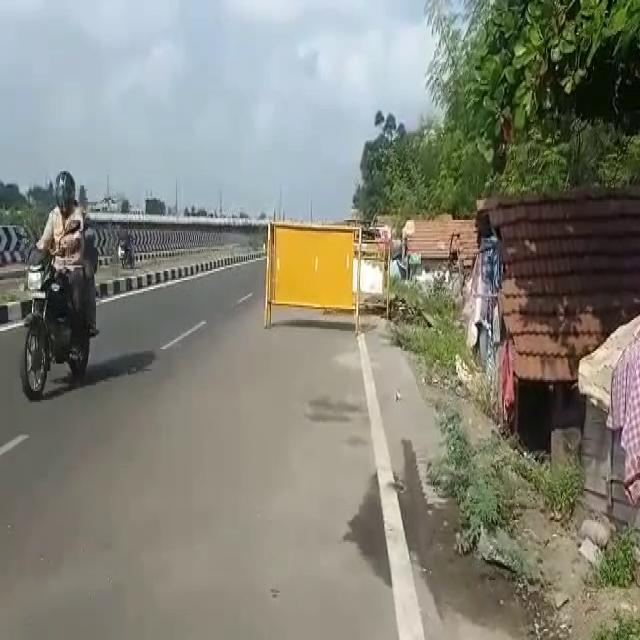fallen_object: (239, 199, 390, 351)
